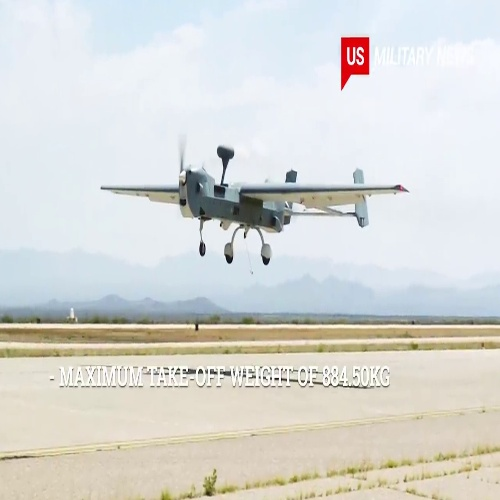uav: (97, 129, 409, 267)
